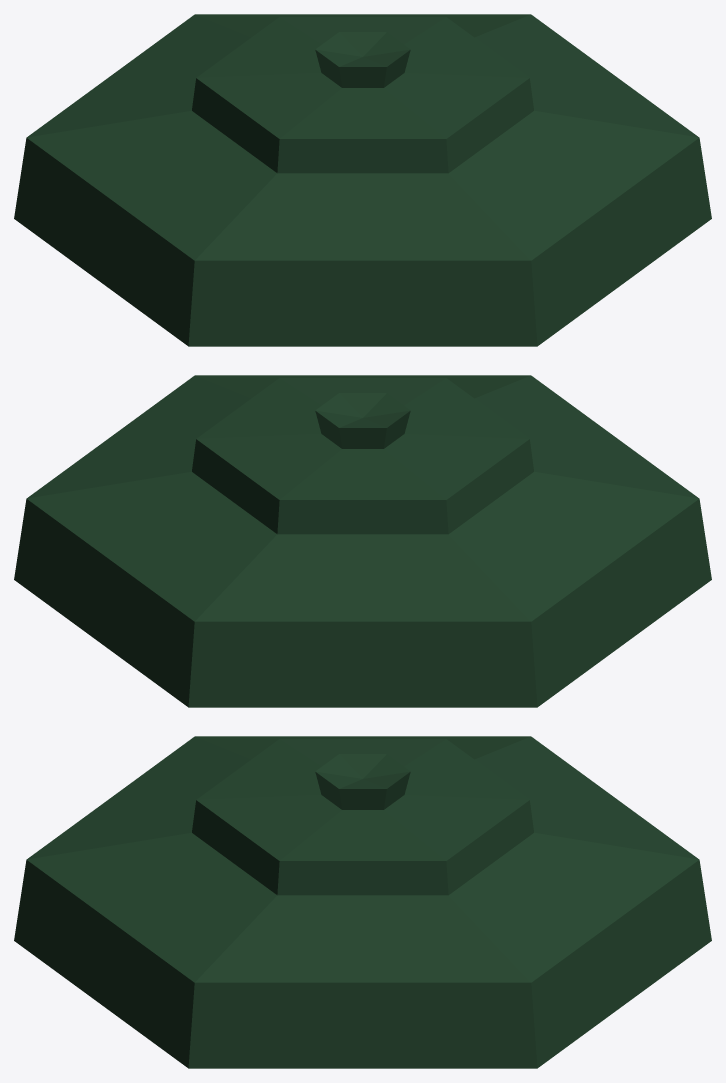
The model's file is tellermine42.glb.
3 views of the same model, one above another, from view 1: azimuth 30°, elevation 25°; view 2: azimuth 150°, elevation 25°; view 3: azimuth 270°, elevation 25° (orthographic).
Visible parts, largest first — view 1: tellermine42; view 2: tellermine42; view 3: tellermine42.
Boxes of the visible parts, <box> form: tellermine42: <box>14,14,711,346</box>; tellermine42: <box>14,375,711,707</box>; tellermine42: <box>14,736,711,1068</box>.
Size of the model in its own units: 0.3337 by 0.1086 by 0.3853.
1 material, 1 textured.
